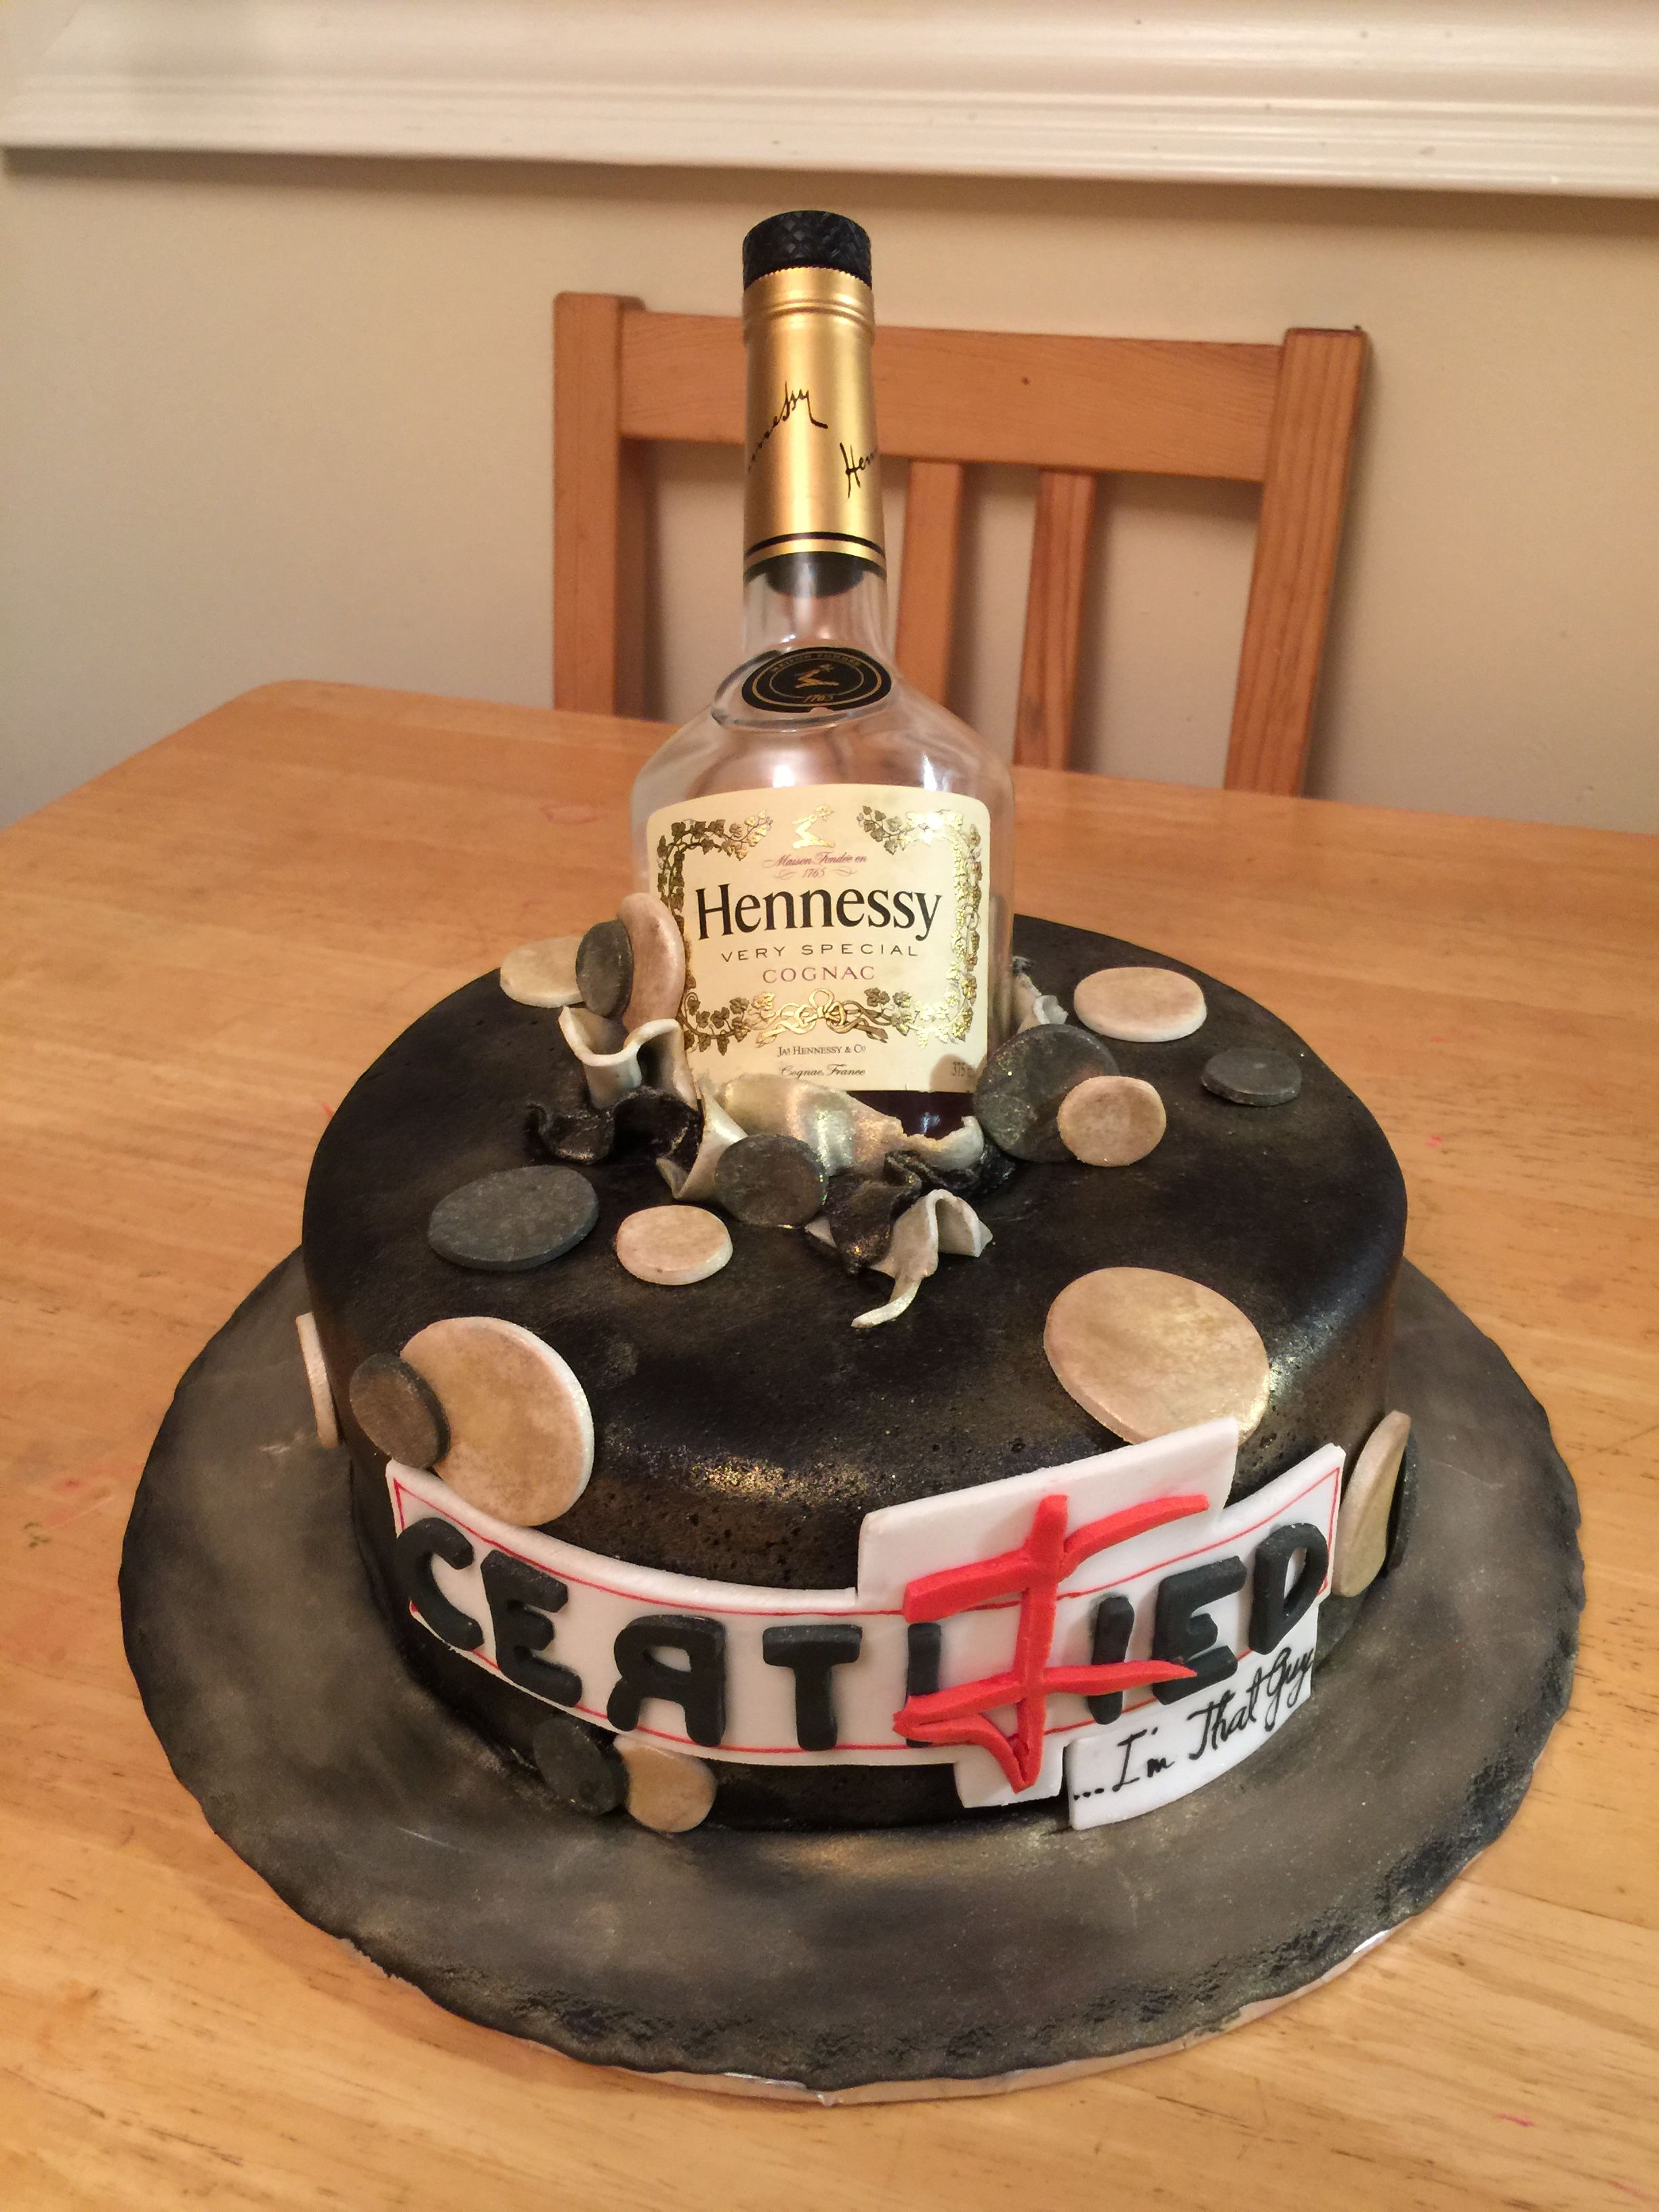Hennessy: (563, 171, 1063, 1193)
